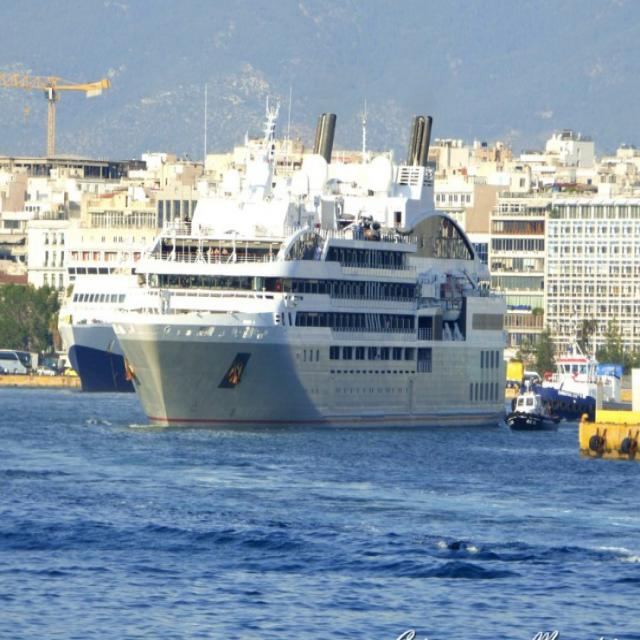cruises: (106, 105, 519, 435)
